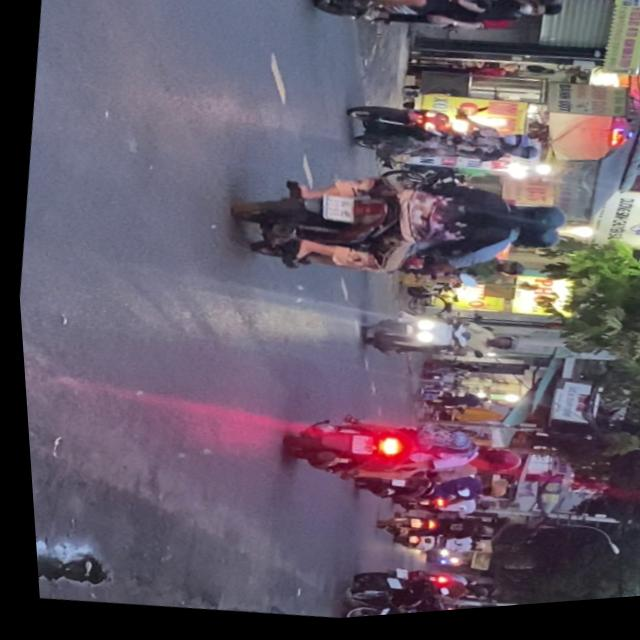helmet: (511, 205, 570, 242), (511, 228, 560, 260), (520, 3, 565, 28), (512, 0, 565, 15), (500, 137, 536, 159), (505, 149, 541, 169)
licenseplate: (219, 148, 576, 314), (273, 399, 527, 511), (341, 92, 549, 189), (291, 0, 569, 64)
motorcyclist: (449, 445, 500, 479)
nohelmet: (318, 197, 355, 229), (345, 438, 368, 460)
